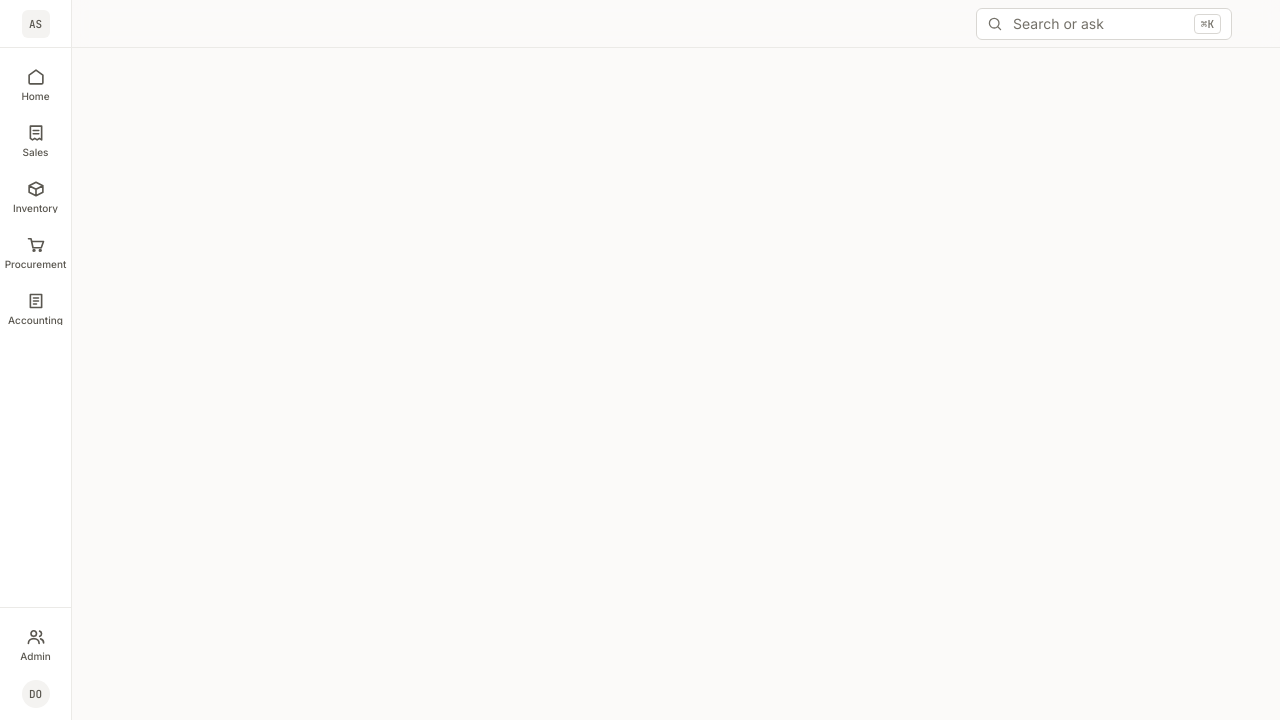
Test: AppShell › opens the command bar from the module bar search affordance
This screenshot has width=1280, height=720.
Step 1. Click the button "Search or ask ⌘K" → click(1104, 24), box x1=976 y1=8 x2=1232 y2=40
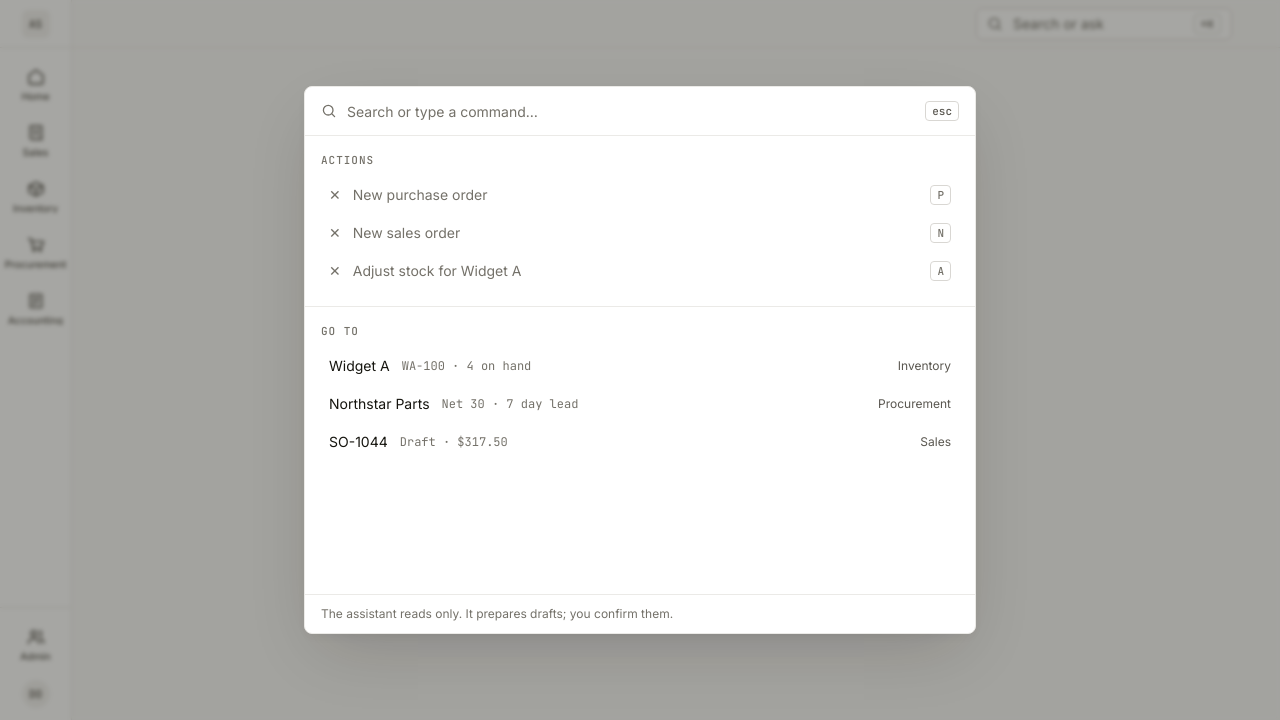
expect the dialog named "Command bar" is shown: met, box x1=304 y1=86 x2=976 y2=634
